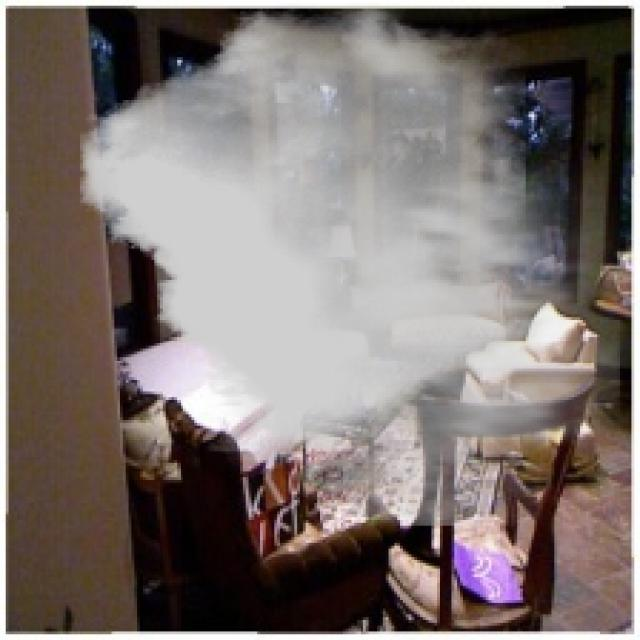smoke: (80, 3, 620, 526)
